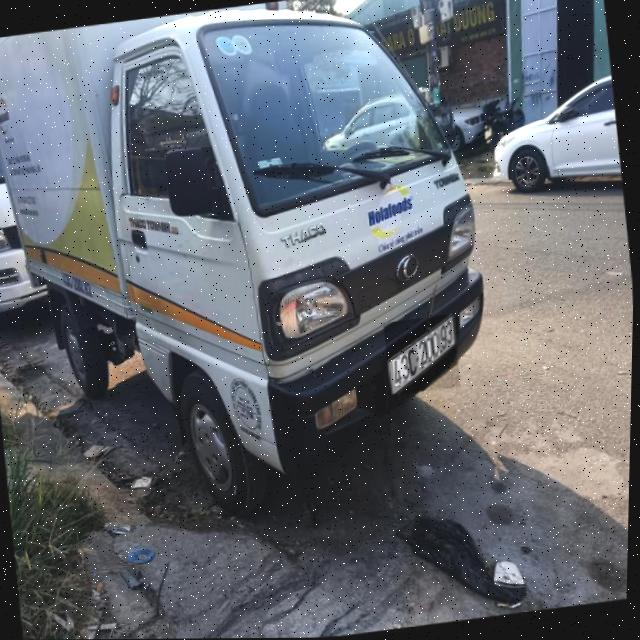car: (78, 0, 500, 465), (484, 73, 626, 203)
plate: (381, 315, 463, 395)
